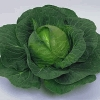cabbage: (28, 25, 69, 58)
